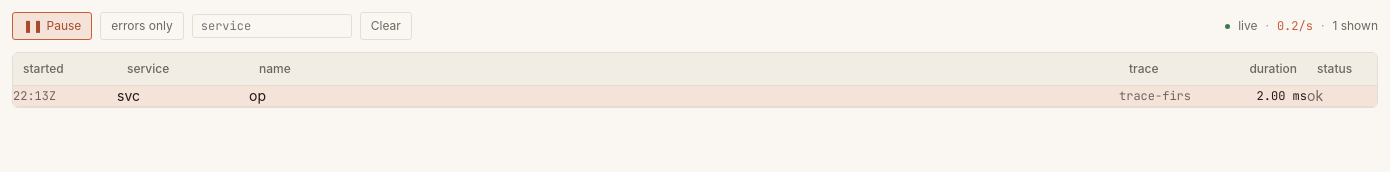
the live tail screen › buffers while paused and releases in order on resume
The image size is (1390, 172).
Click the button "❚❚ Pause" at (52,26), box [12,12,92,40]
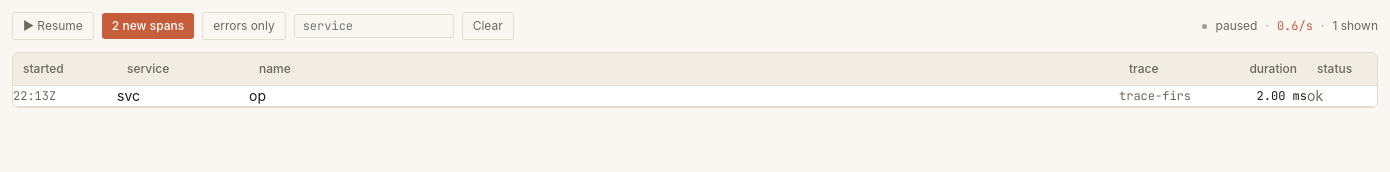
Check: the button "2 new spans" is shown
Click the button "2 new spans" at (148,26), box [102,13,194,39]
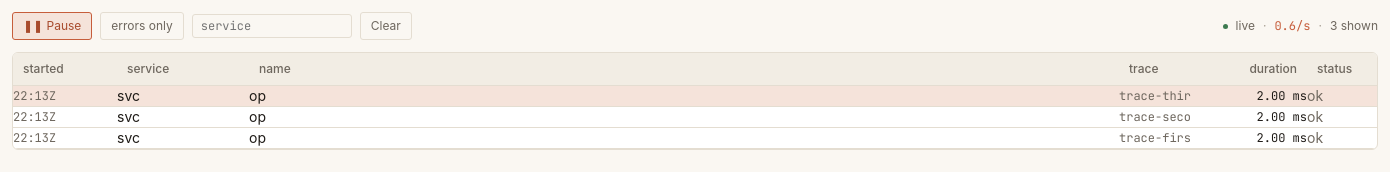
Check: the link "22:13Z svc op trace-firs 2.00 ms ok" is shown, box [13,128,1377,149]
Check: the link "22:13Z svc op trace-thir 2.00 ms ok" is shown, box [13,86,1377,107]
